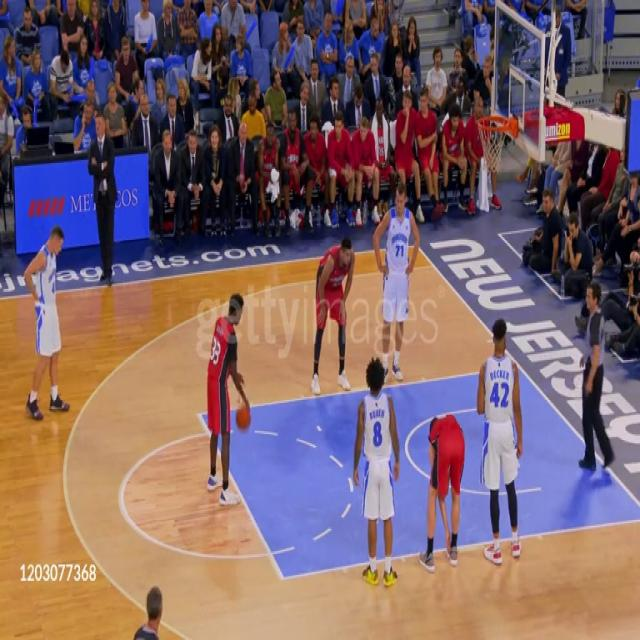ball: (235, 405, 252, 434)
